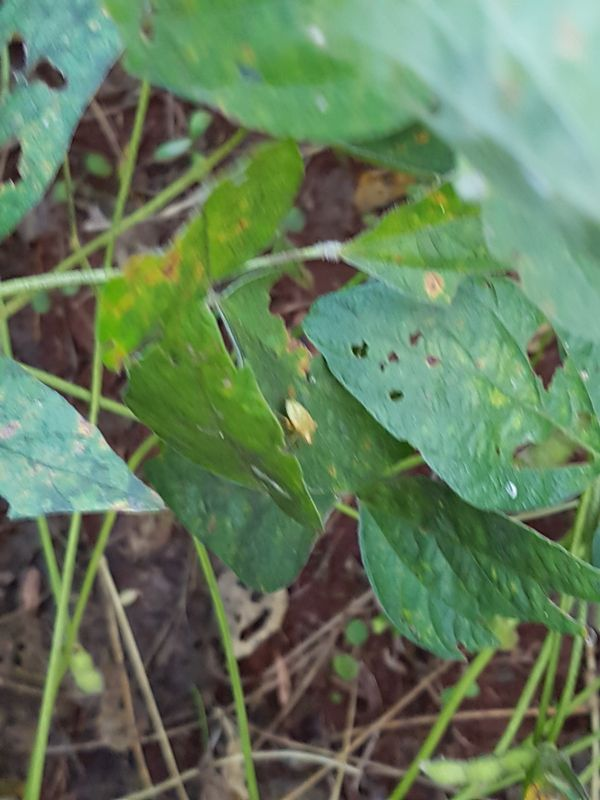Euschistus_heros_ninfa: (266, 392, 326, 452)
